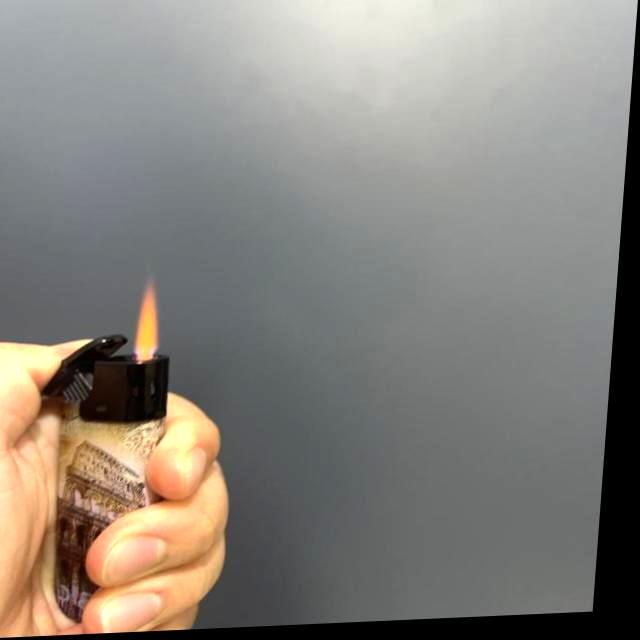fire: (134, 280, 170, 360)
